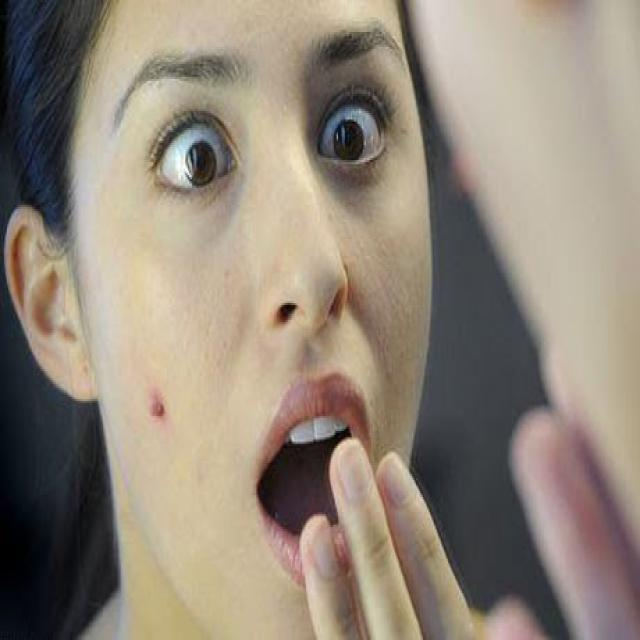acne: (151, 391, 168, 423)
